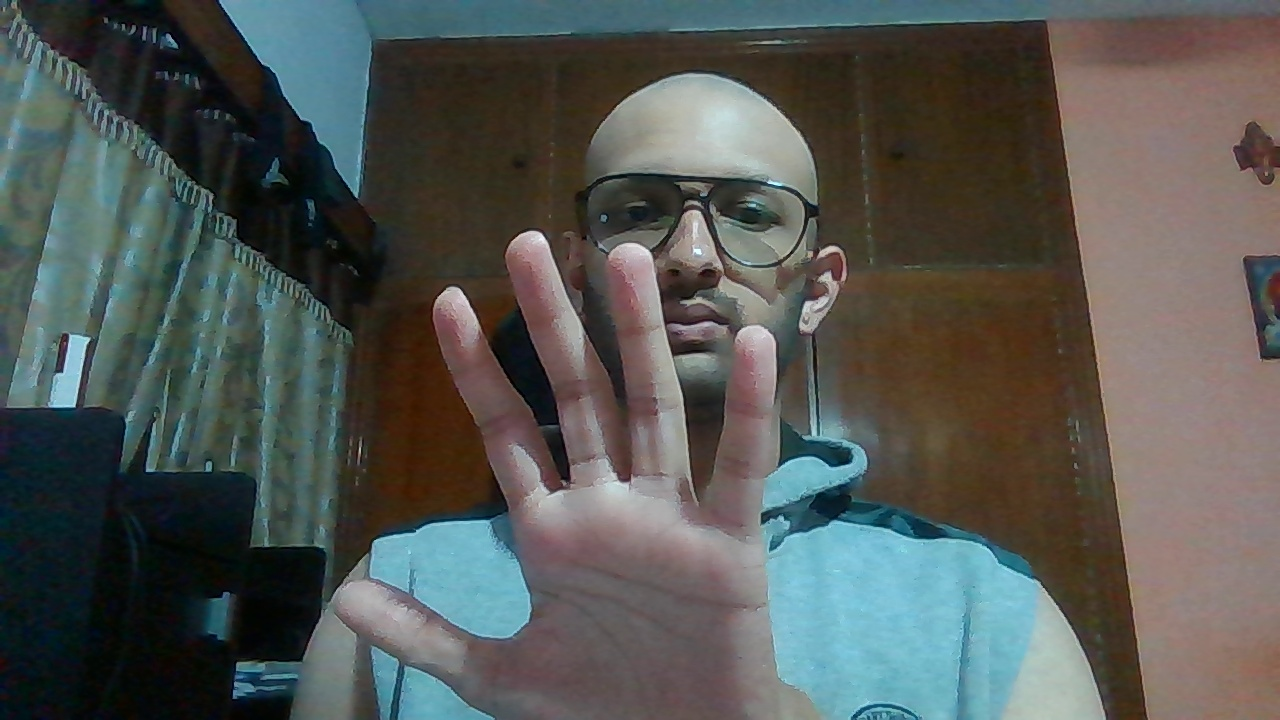Hello: (326, 232, 786, 720)
